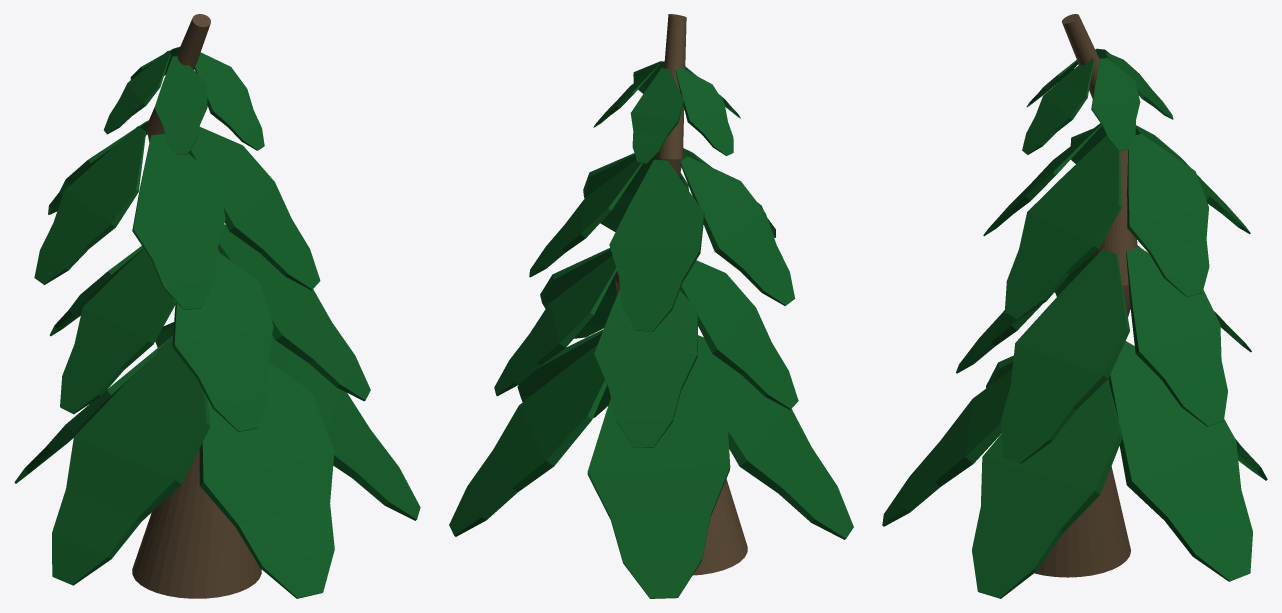
The model's file is BadTree.fbx.
The picture shows the model from 3 angles, left to right: view 1: azimuth 30°, elevation 25°; view 2: azimuth 150°, elevation 25°; view 3: azimuth 270°, elevation 25°; orthographic projection. The views are drawn at different scales.
Parts seen in each view (by area): view 1: Cylinder; view 2: Cylinder; view 3: Cylinder.
Part boxes in pixels (x1,y1,x2,y2): Cylinder: (14, 14, 420, 598); Cylinder: (449, 14, 853, 598); Cylinder: (882, 14, 1267, 598).
Size of the model in its own units: 355 by 543 by 353.
